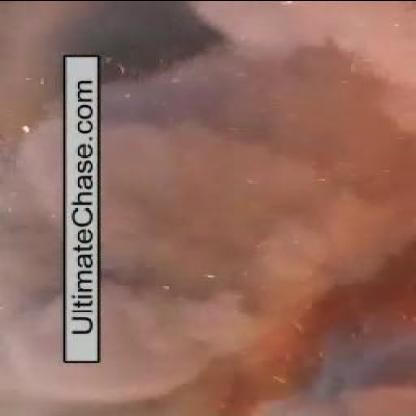-: (101, 73, 362, 400), (0, 79, 62, 394)
